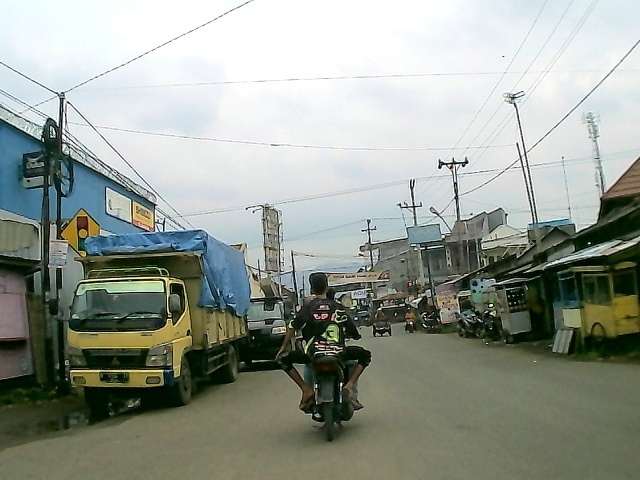Lampu isyarat: (56, 206, 109, 262)
